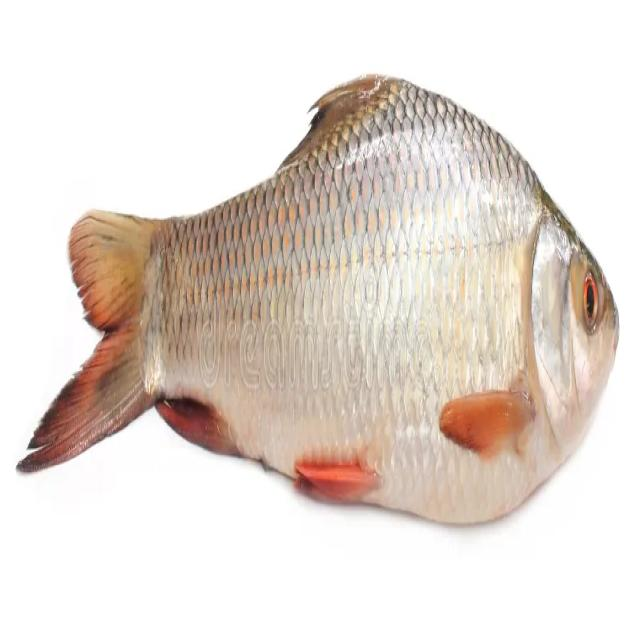Rohu: (22, 74, 622, 525)
